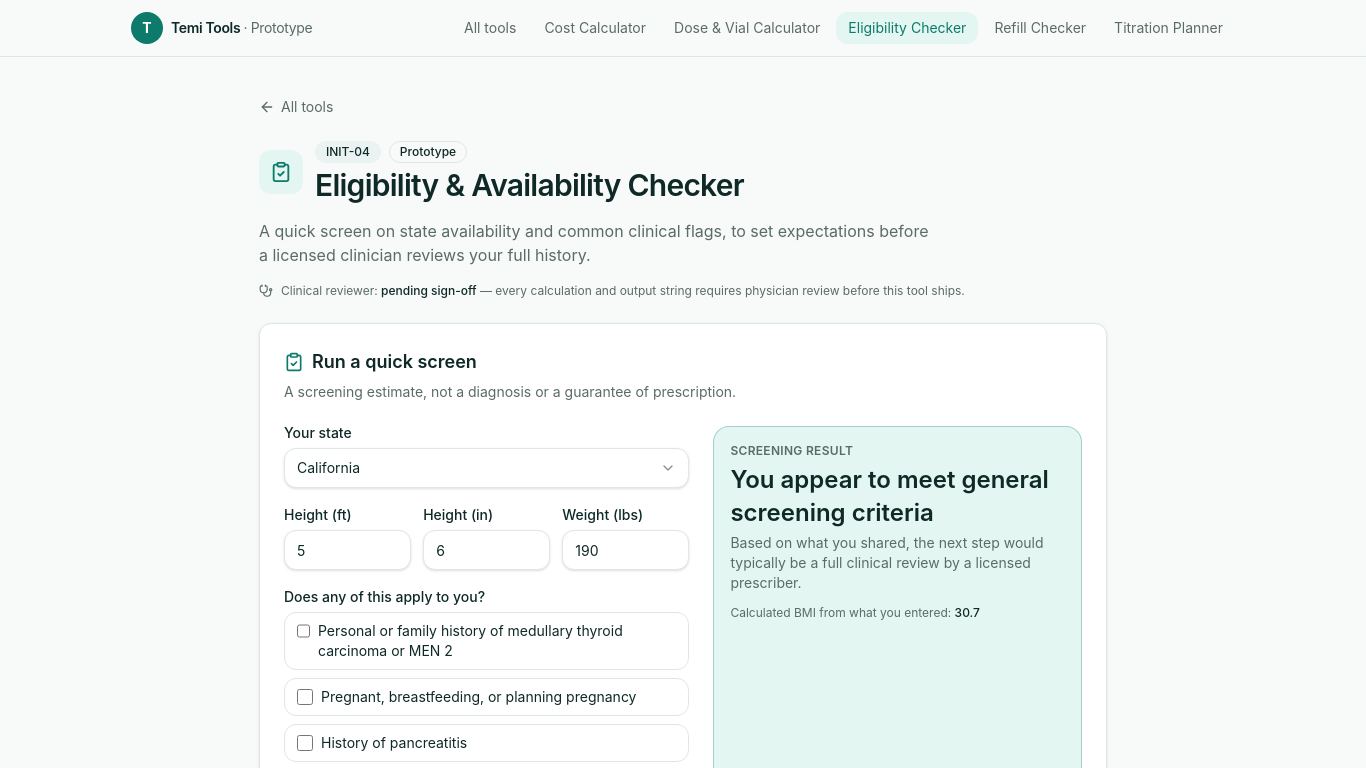
it: Eligibility & Availability Checker › flags an unserved state instead of running the clinical screen
The width and height of the screenshot is (1366, 768).
Click the dropdown.
click(329, 468)  # box [284,448,689,488]
(page scrolled)
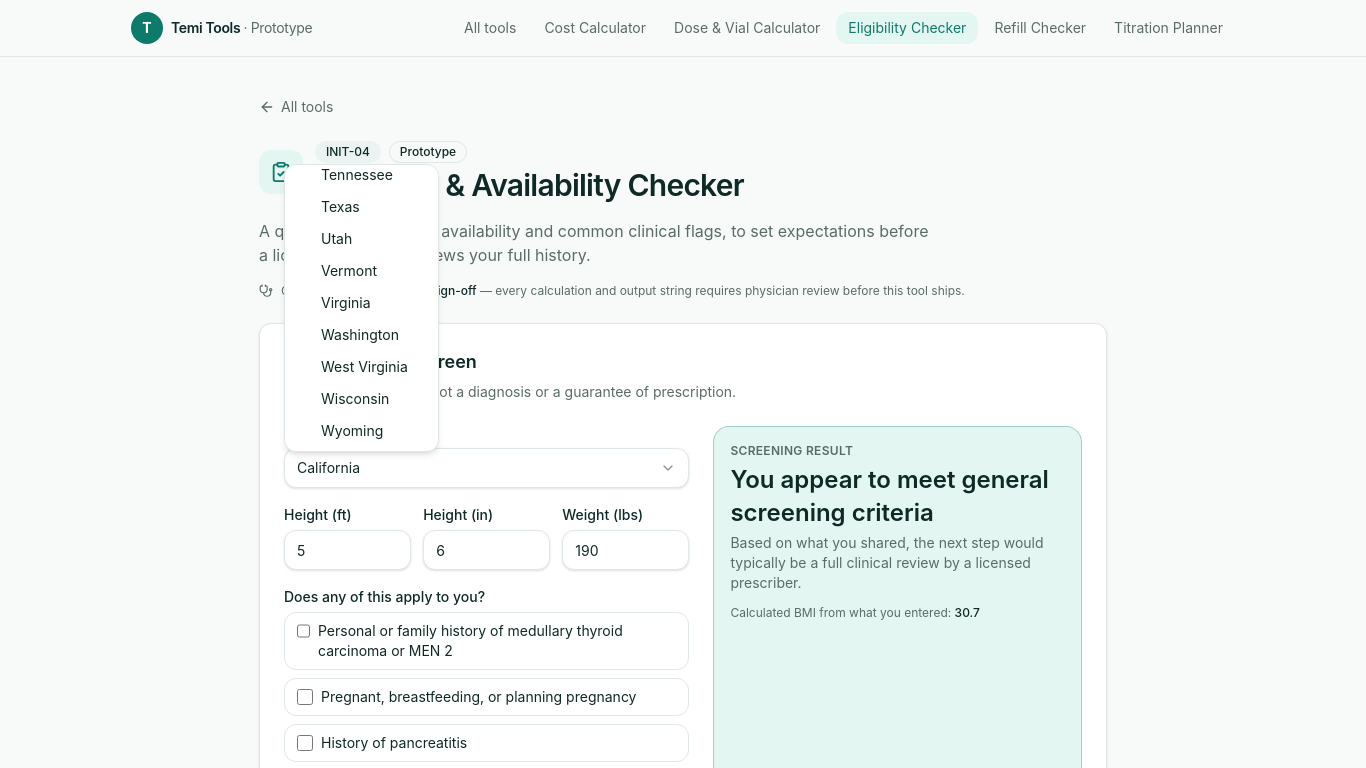
Click the option "Wyoming".
click(352, 430)  # box [321,422,383,439]
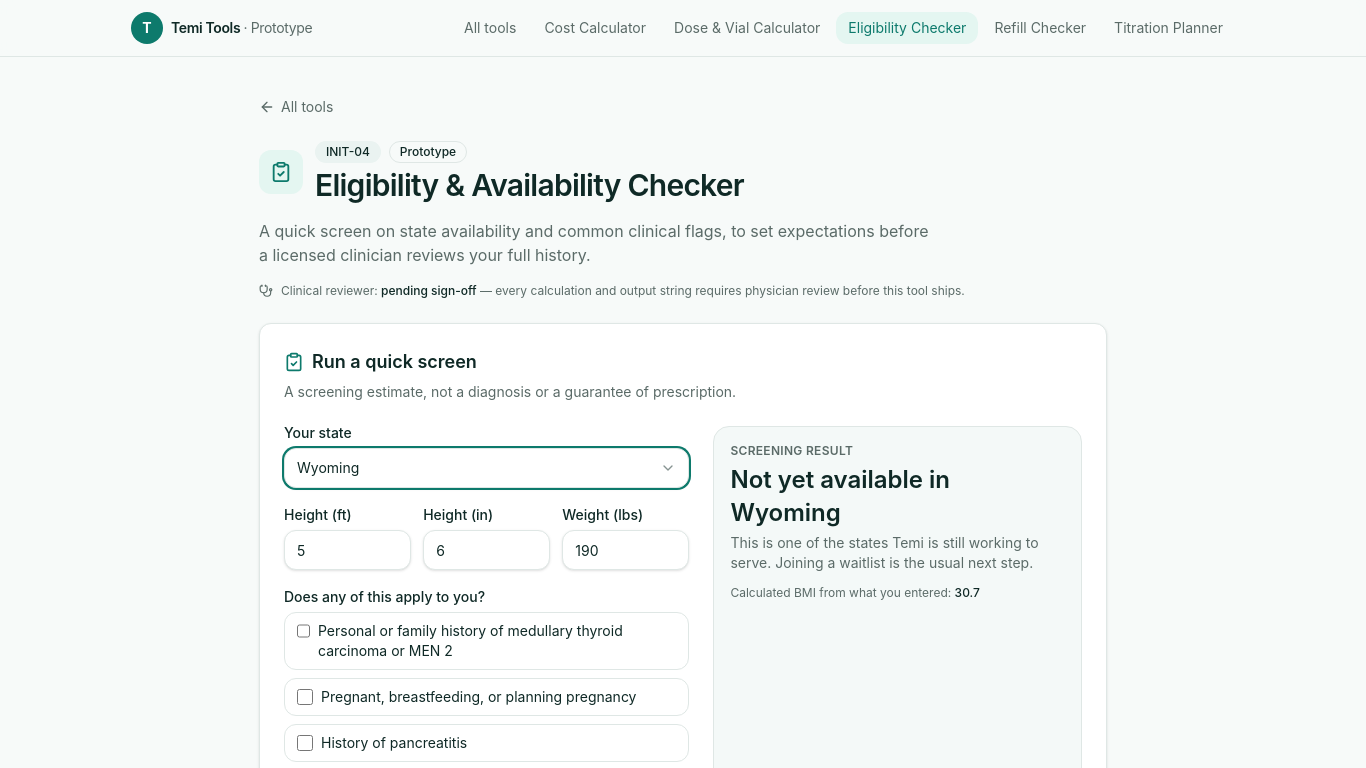
Expected: the text "Not yet available in Wyoming" is shown, [730,465,950,527]
